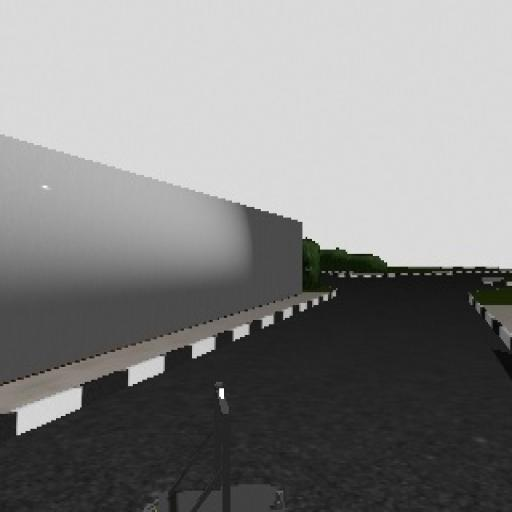huskya200: (135, 371, 293, 512)
